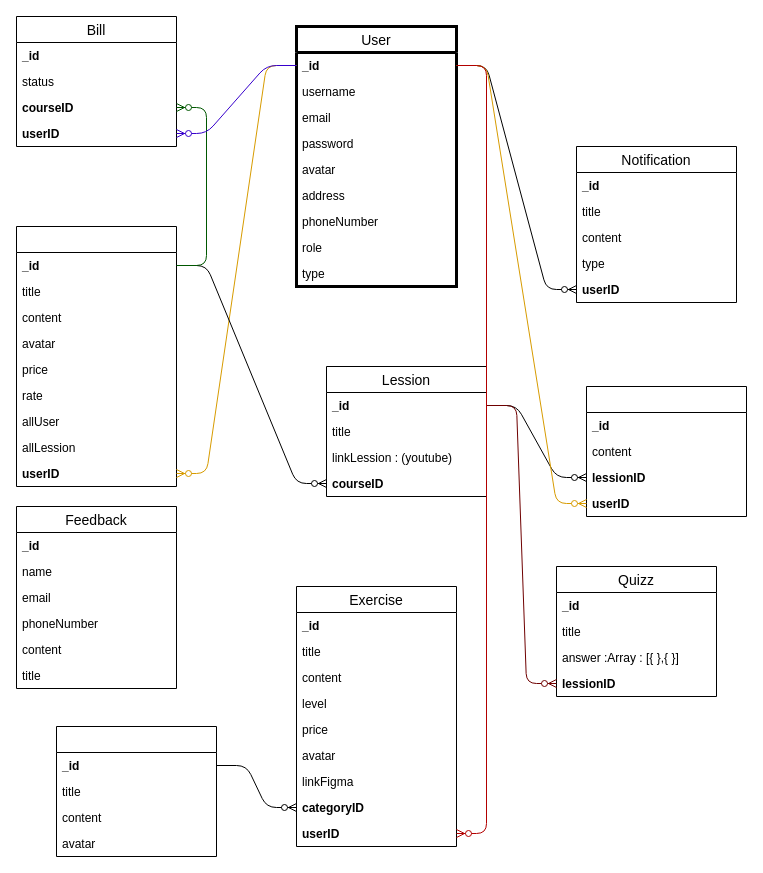
The diagram is 763 pixels wide and 873 high, and some of its shapes have lost their labels. The shapes that lost their labels are listed below. From the top down, each one's box as (x1, y1, x2, y2) in pixels, then its label:
(16, 226, 176, 486): Course
(586, 386, 746, 516): Comment
(56, 726, 216, 856): categoryExercise
